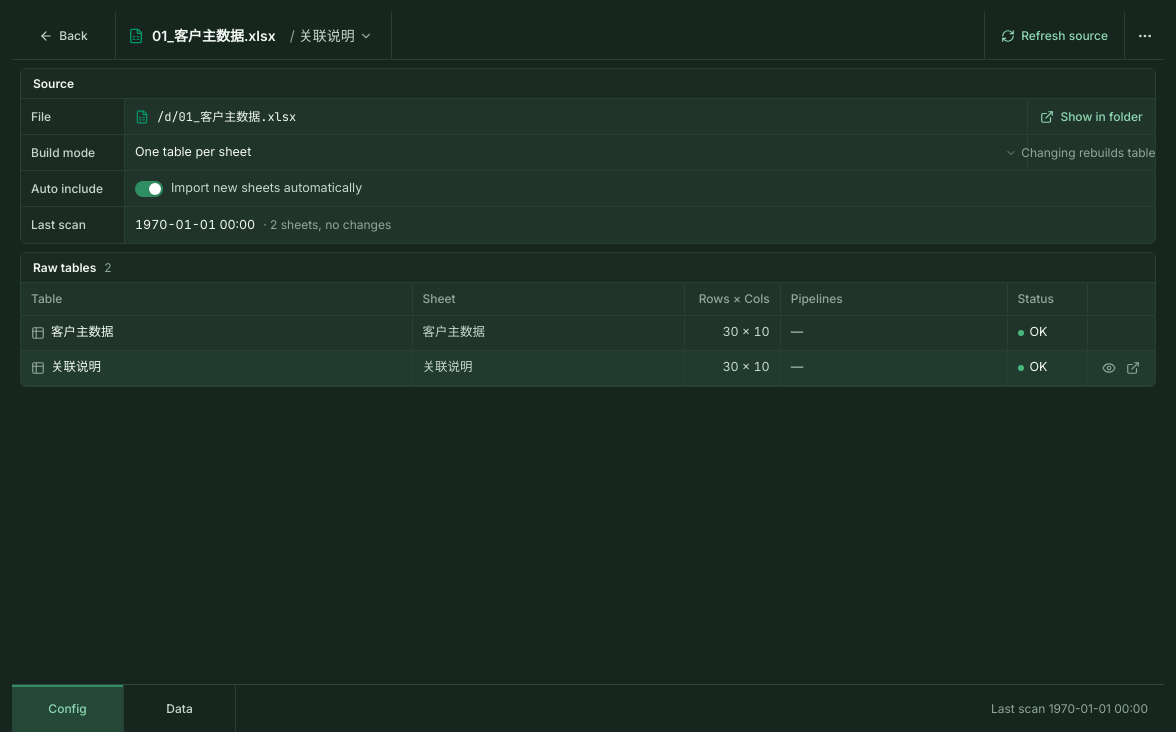
Test case: RawSourceDetail (方案 A) › inline 组织方式 change › picking the original mode again also cancels
The image size is (1176, 732).
Select "One sheet, single table" in the dropdown with test id "raw-source-build-mode" at (576, 152), box [125,135,1027,170]
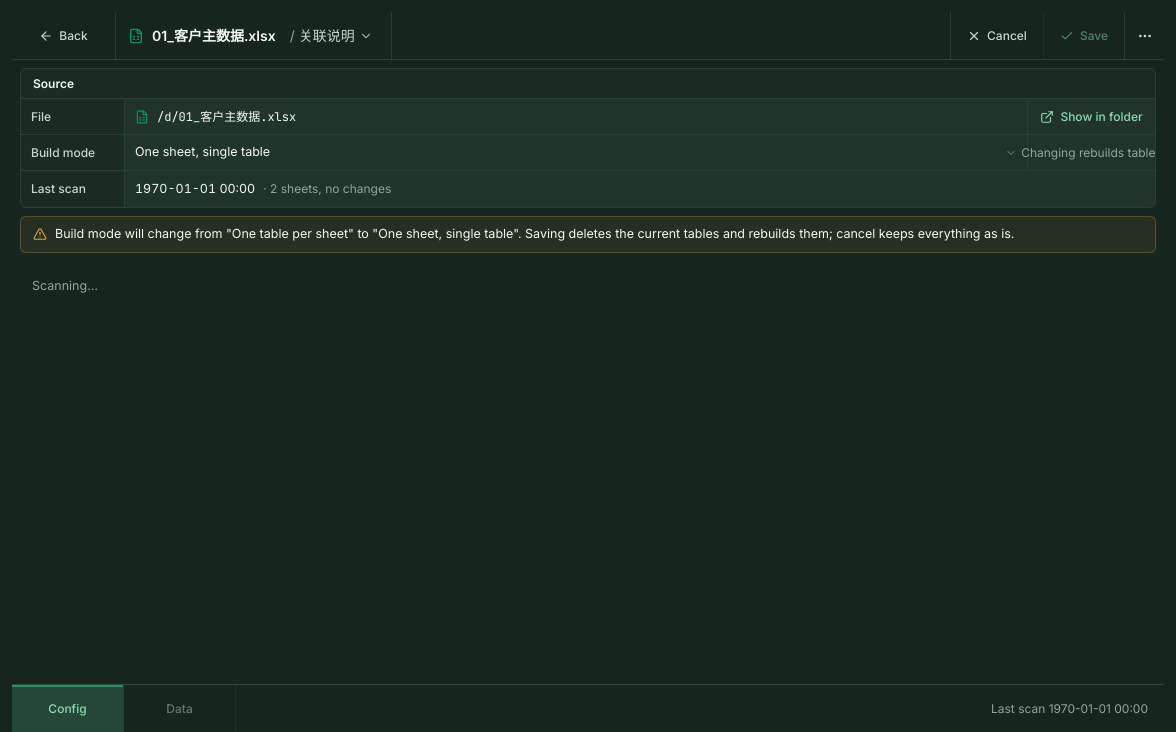
Result: the element with test id "raw-source-mode-change" is shown at [20,216,1156,312]
Select "One table per sheet" in the dropdown with test id "raw-source-build-mode" at (576, 152), box [125,135,1027,170]
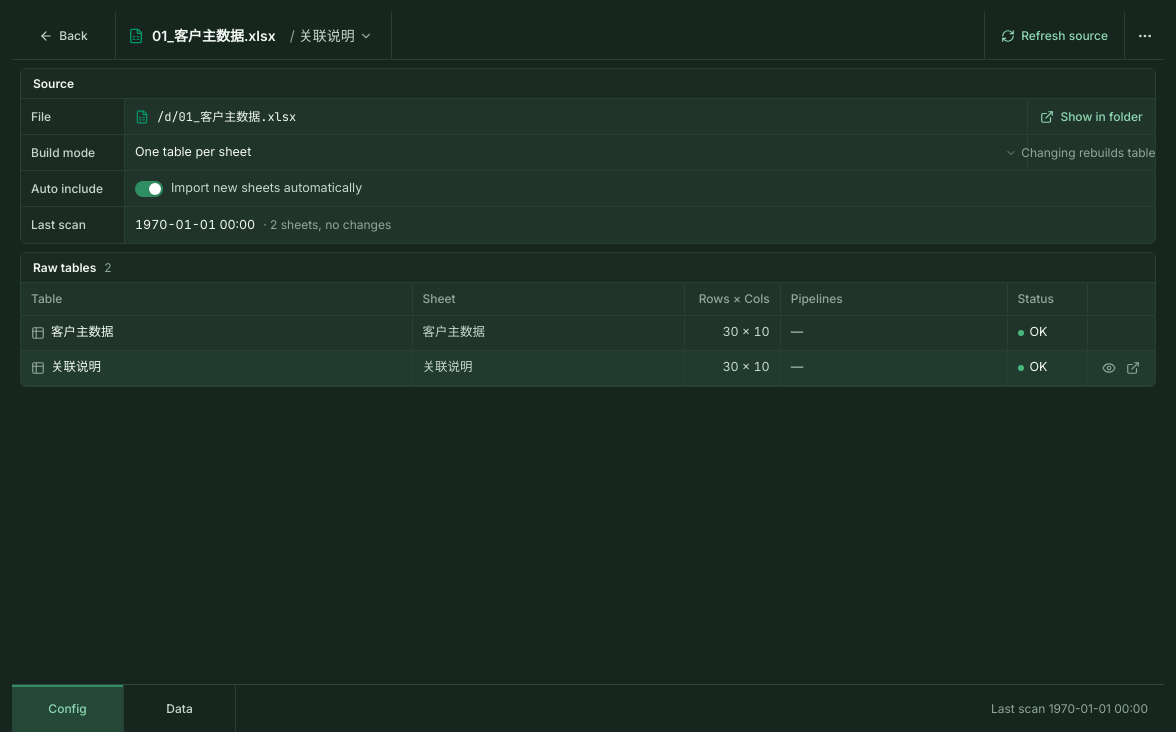
Result: the element with test id "raw-source-mode-change" is gone
